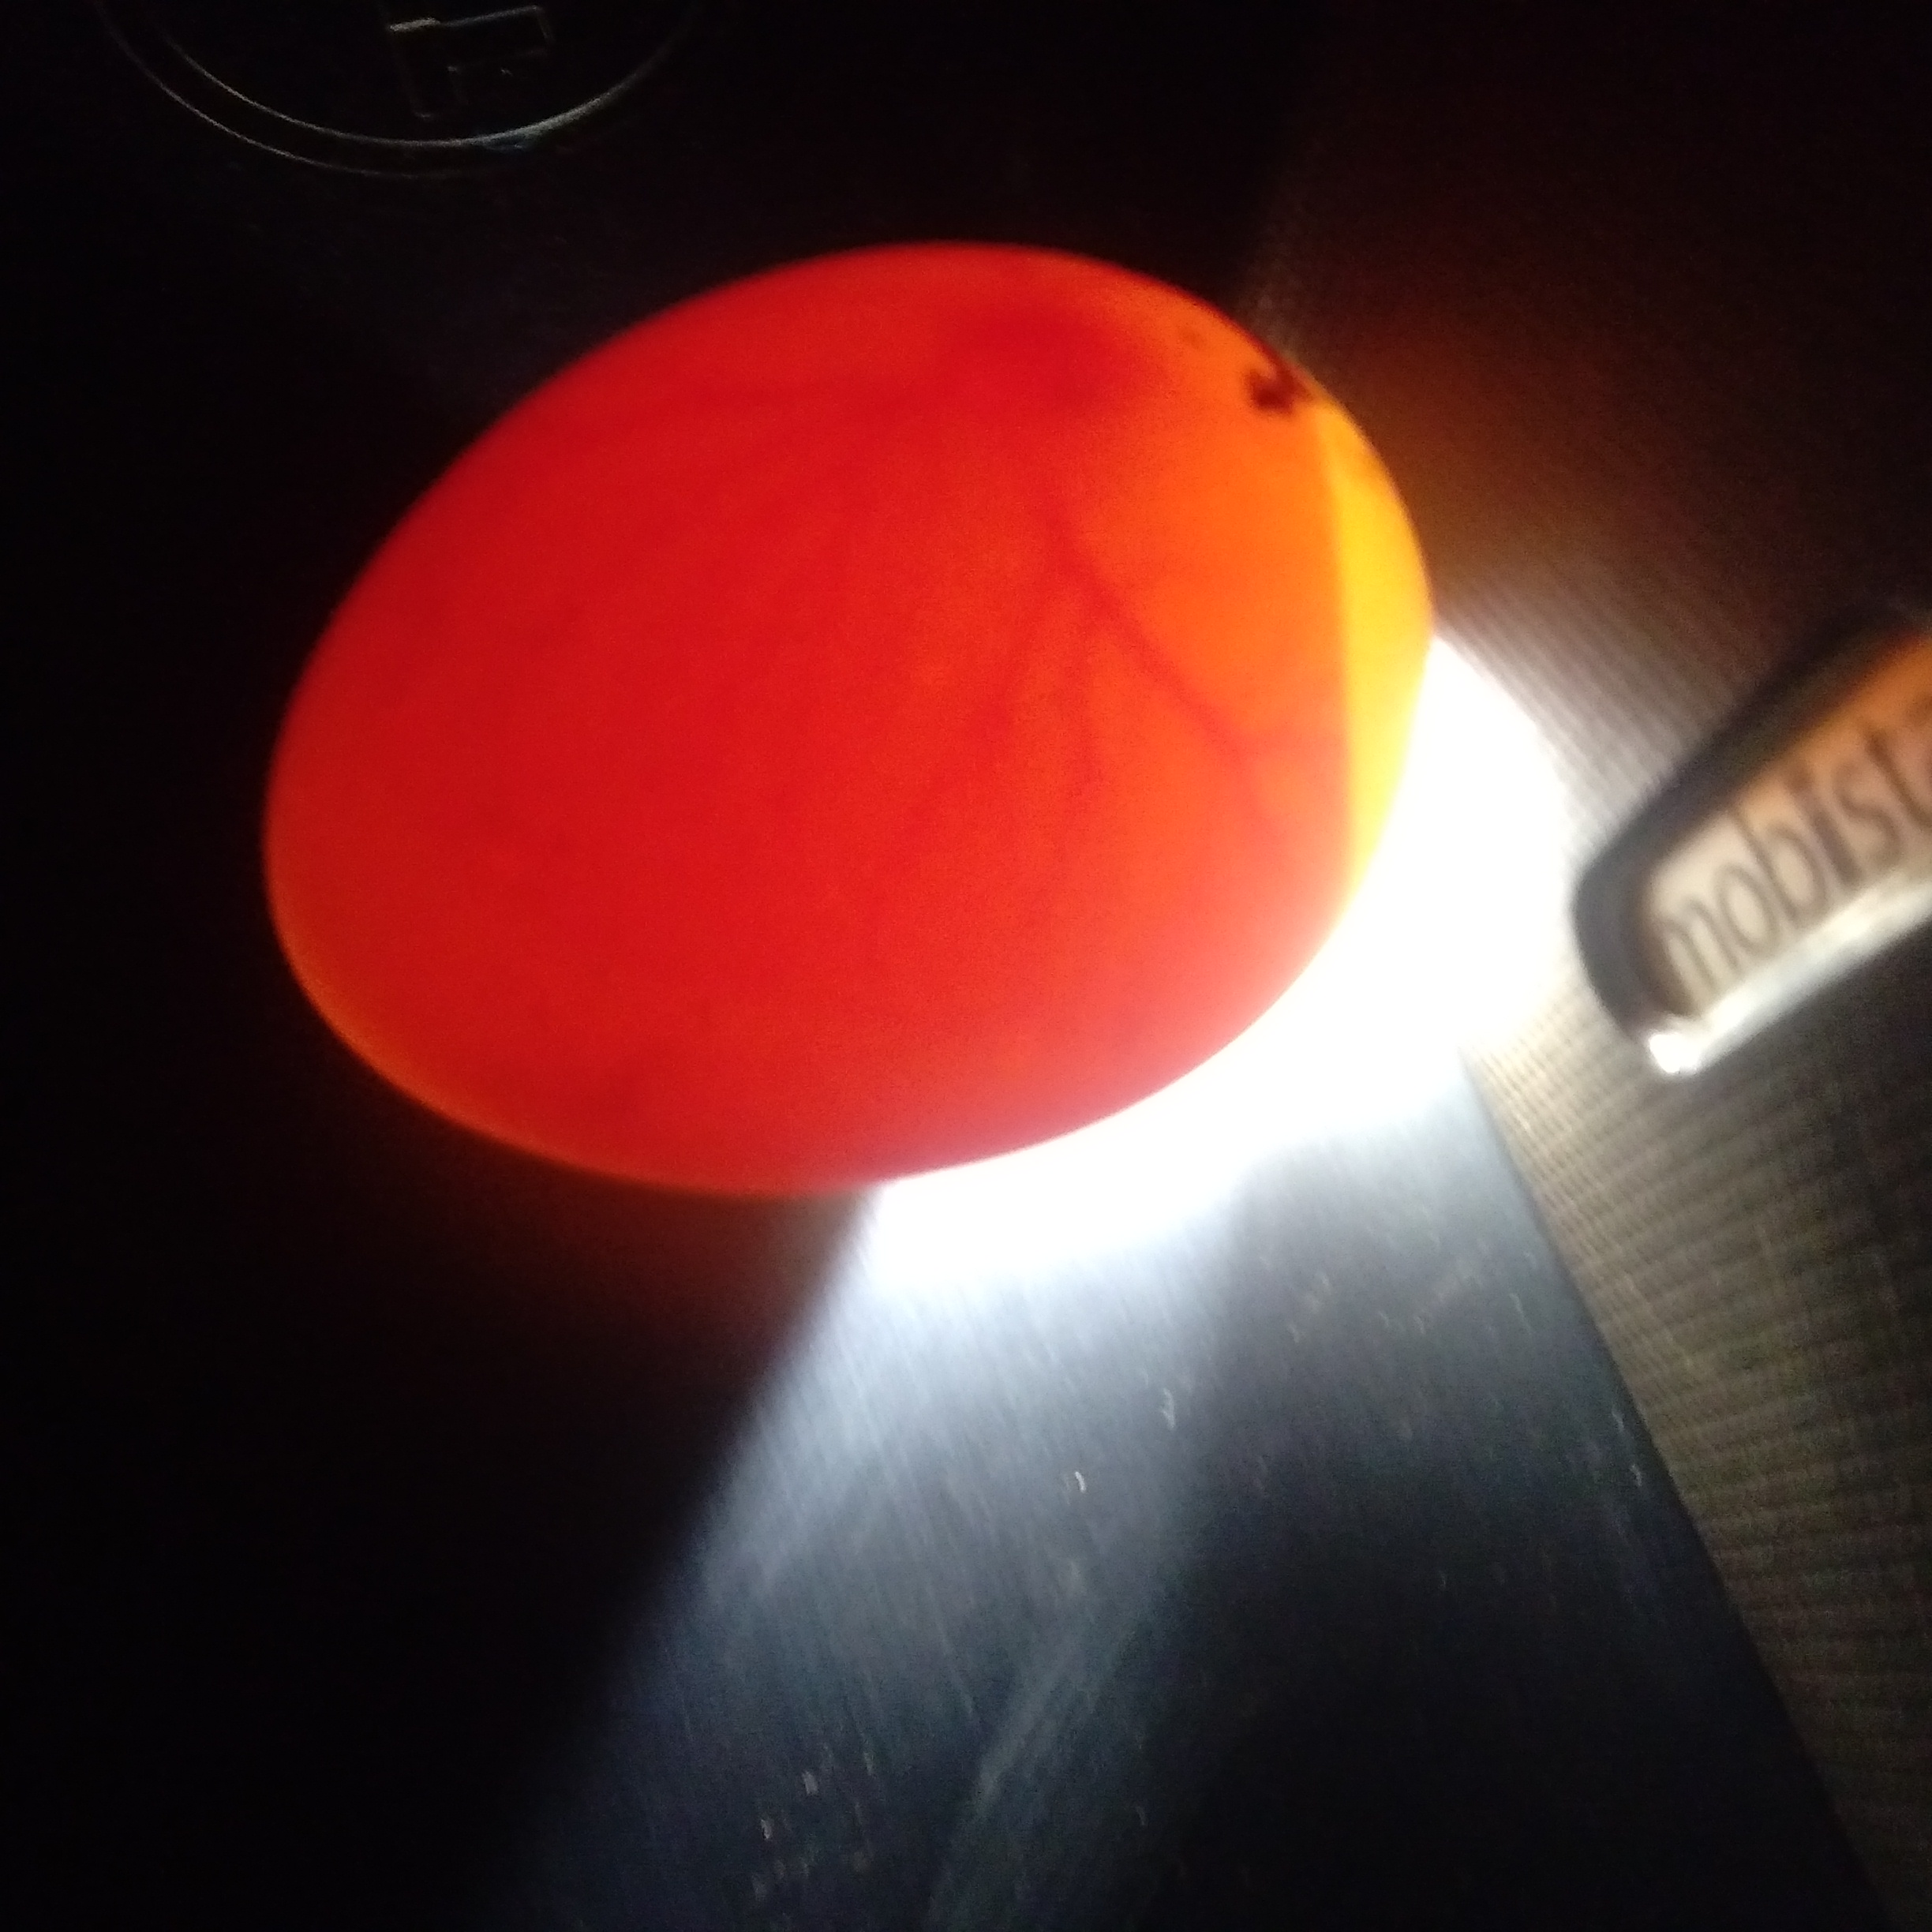bloodcell: (639, 525, 1274, 959)
embryo: (959, 295, 1182, 446)
